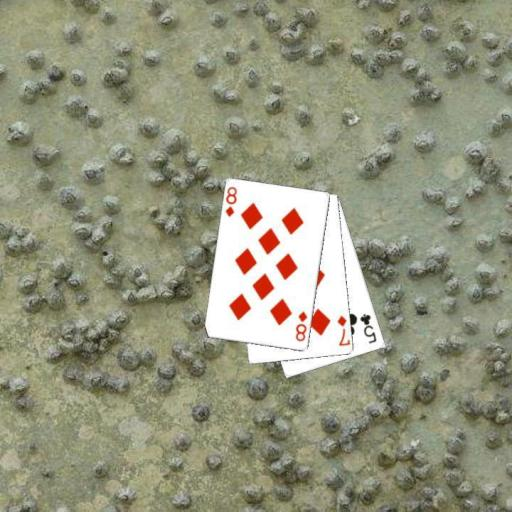card-corner: (357, 311, 378, 345), (292, 308, 309, 343), (334, 312, 350, 348), (223, 184, 239, 218)
